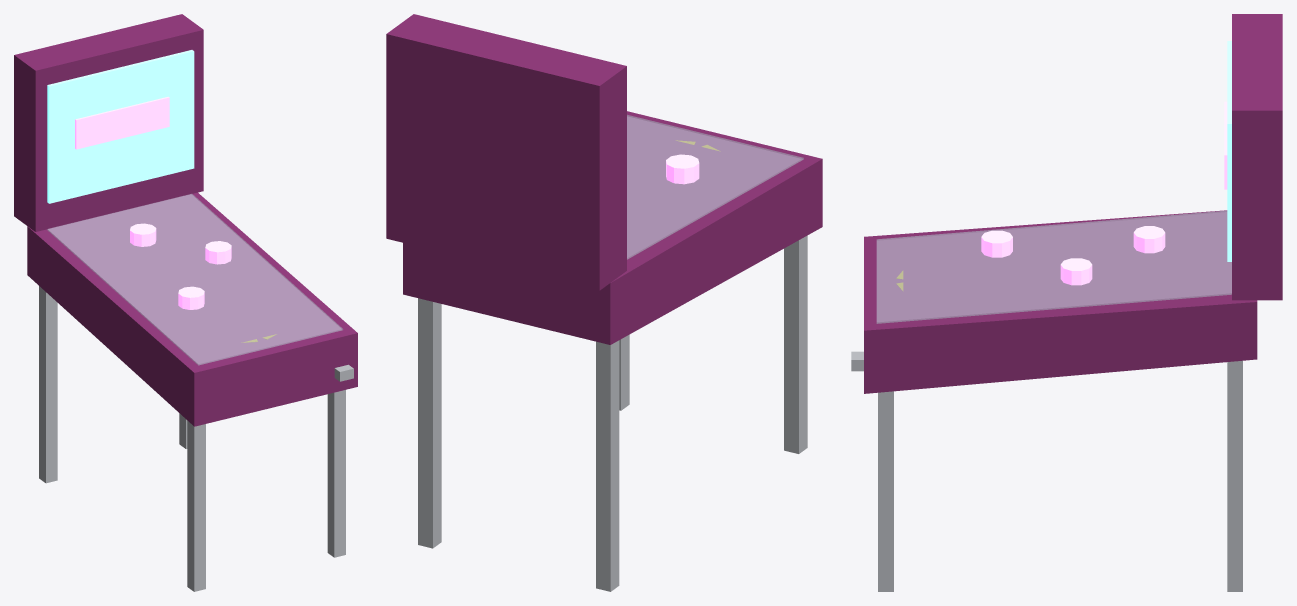
File: pinball.glb
3 renders of one model, left to right at view 1: azimuth 30°, elevation 25°; view 2: azimuth 150°, elevation 25°; view 3: azimuth 270°, elevation 25°, orthographic. The views are drawn at different scales.
Visible parts, largest first — view 1: pinball; view 2: pinball; view 3: pinball.
Part boxes in pixels (x1,y1,x2,y2): pinball: (14, 14, 357, 591); pinball: (386, 14, 822, 591); pinball: (851, 14, 1282, 591).
Size of the model in its own units: 0.72 by 1.69 by 1.36.
